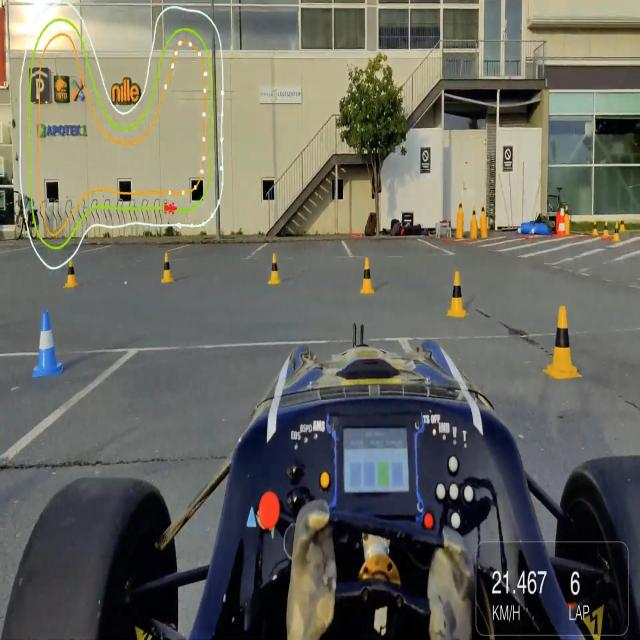blue_cone: (29, 308, 65, 381)
large_orange_cone: (557, 203, 567, 235)
yellow_cone: (542, 302, 584, 382), (444, 267, 469, 321), (359, 255, 375, 297), (267, 250, 284, 288), (161, 250, 175, 285), (65, 260, 77, 292), (602, 219, 610, 240), (614, 219, 620, 241), (592, 220, 598, 240), (620, 215, 626, 235), (458, 200, 463, 218), (472, 206, 477, 220), (481, 202, 485, 215)
